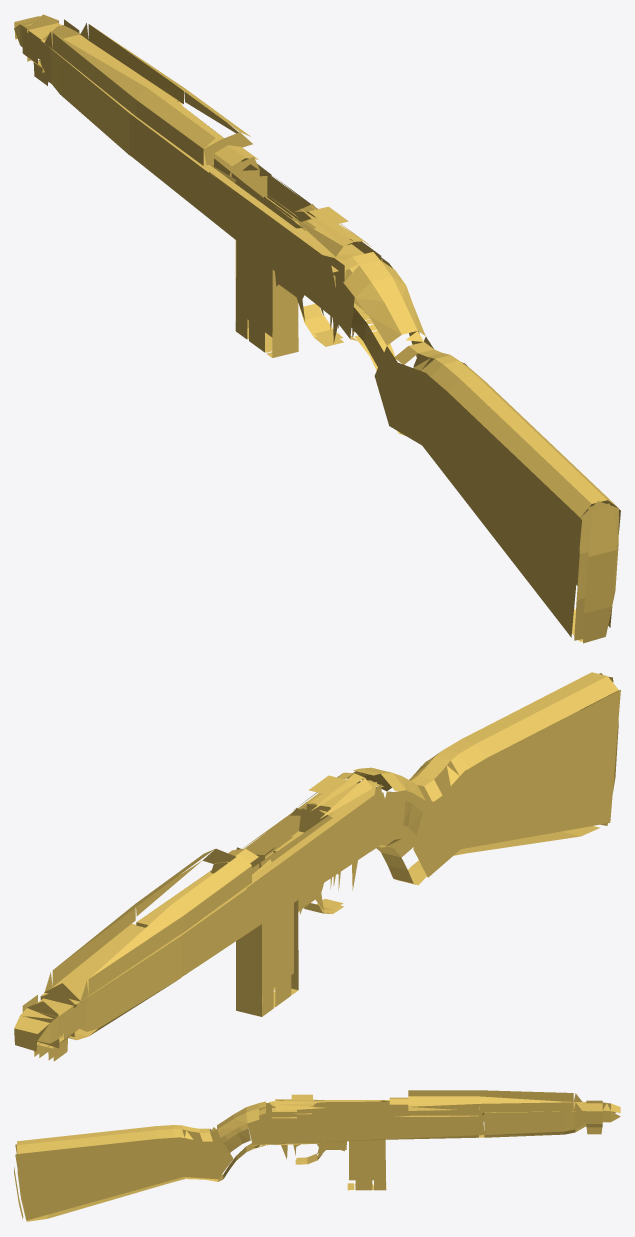
File: charm_mst_subfusil_10.glb
The picture shows the model from 3 angles, top to bottom: view 1: azimuth 30°, elevation 25°; view 2: azimuth 150°, elevation 25°; view 3: azimuth 270°, elevation 25°; orthographic projection. The views are drawn at different scales.
Visible parts, largest first — view 1: p0_paint; view 2: p0_paint; view 3: p0_paint.
Part boxes in pixels (left/top/right/bottom): p0_paint: left=14, top=14, right=620, bottom=643; p0_paint: left=14, top=672, right=620, bottom=1061; p0_paint: left=14, top=1090, right=620, bottom=1221.
Size of the model in its own units: 0.0371 by 0.1648 by 0.7206.
